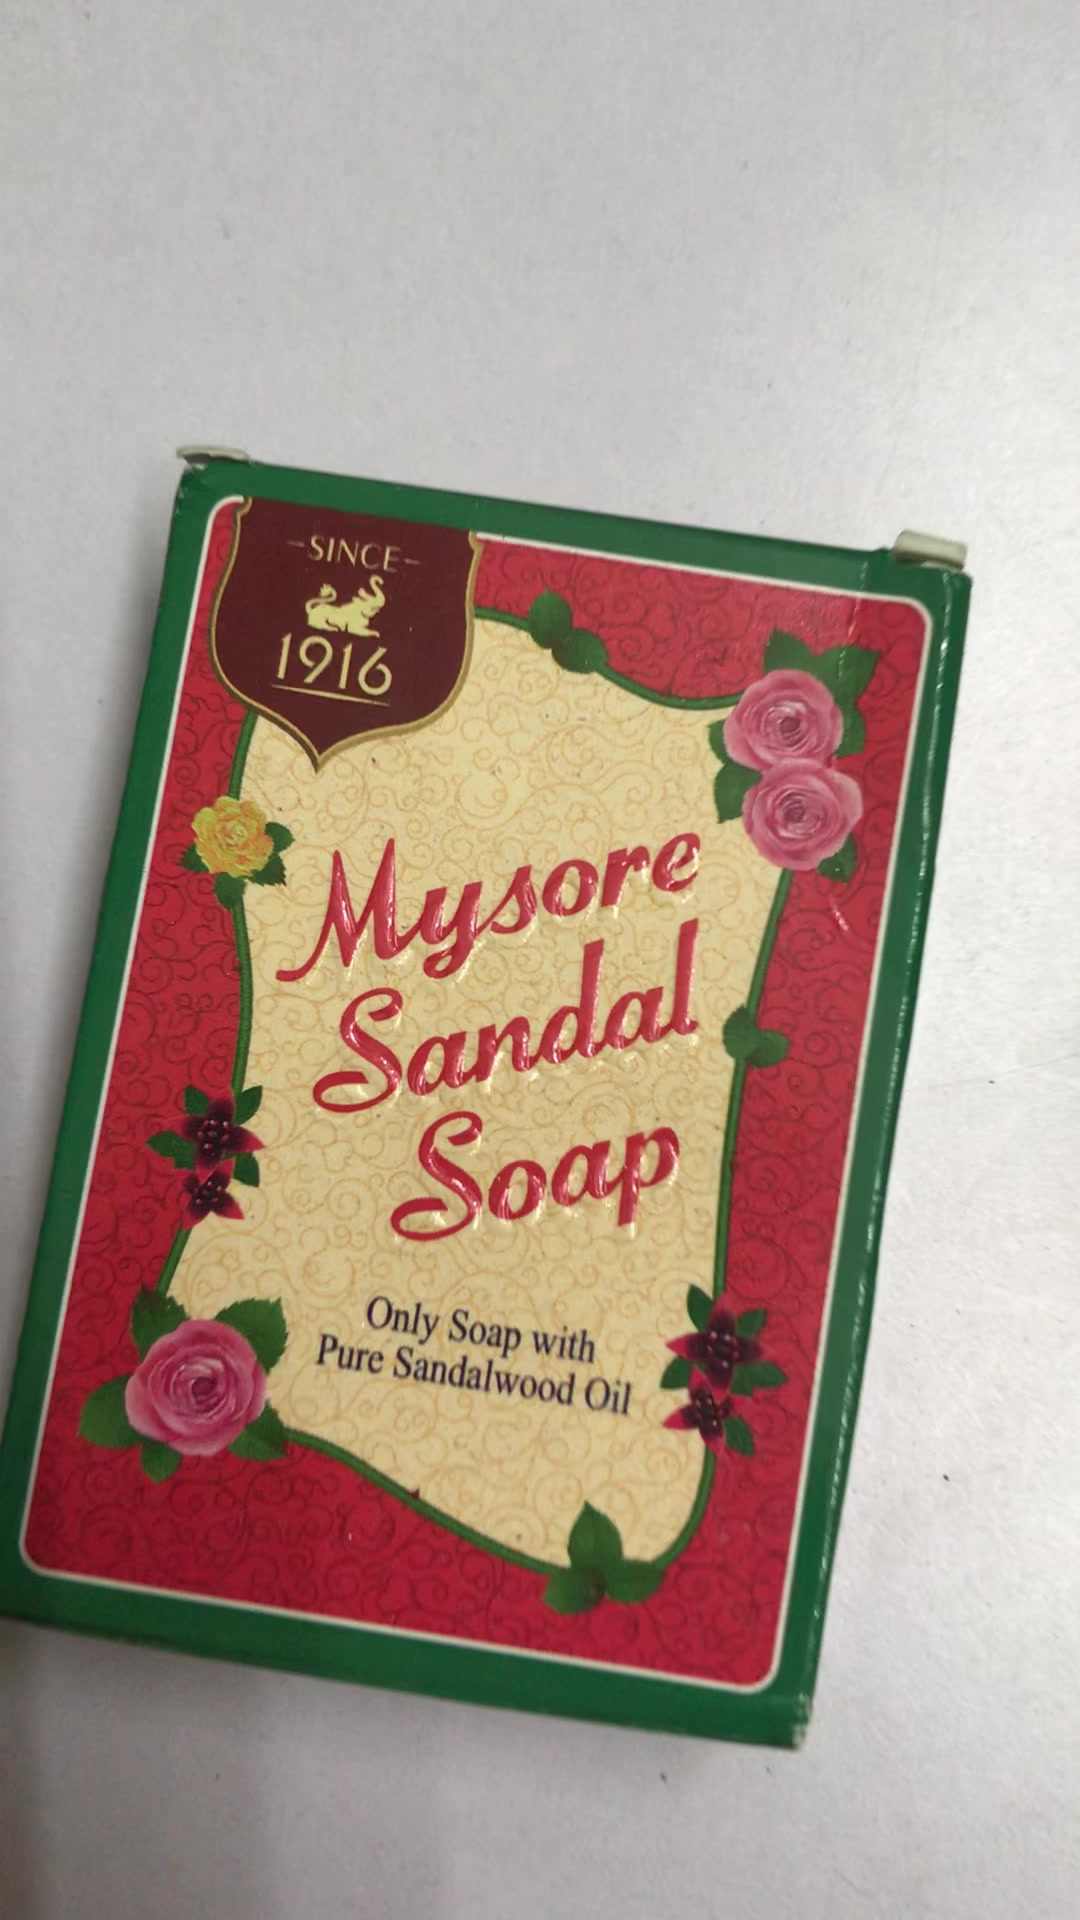mysore sandal soap: (7, 458, 965, 1750)
